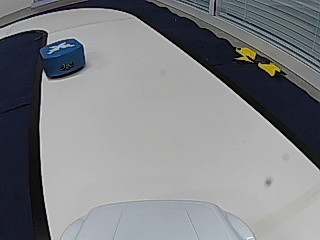spy: (47, 41, 75, 54)
